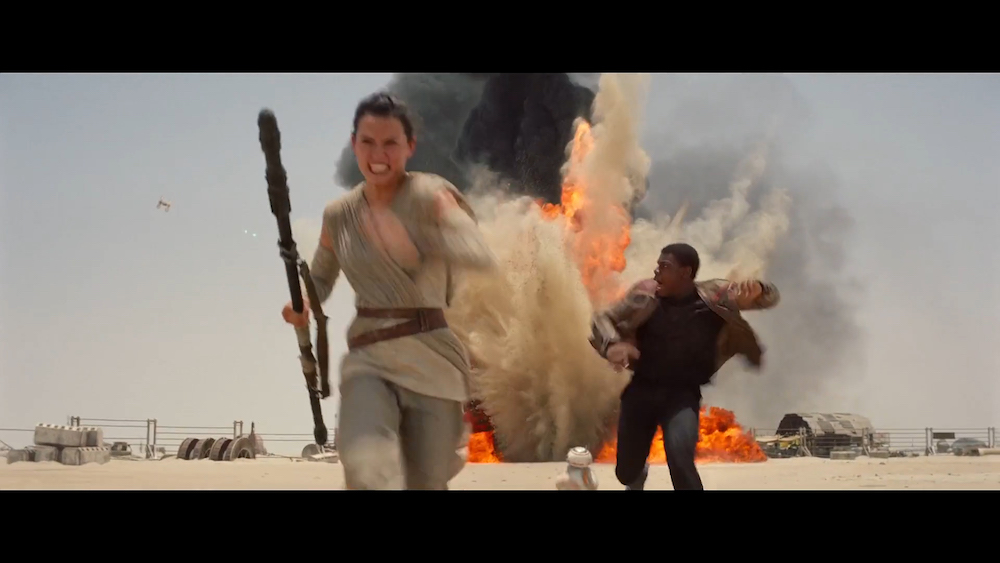Tie Fighter: (158, 196, 172, 213)
